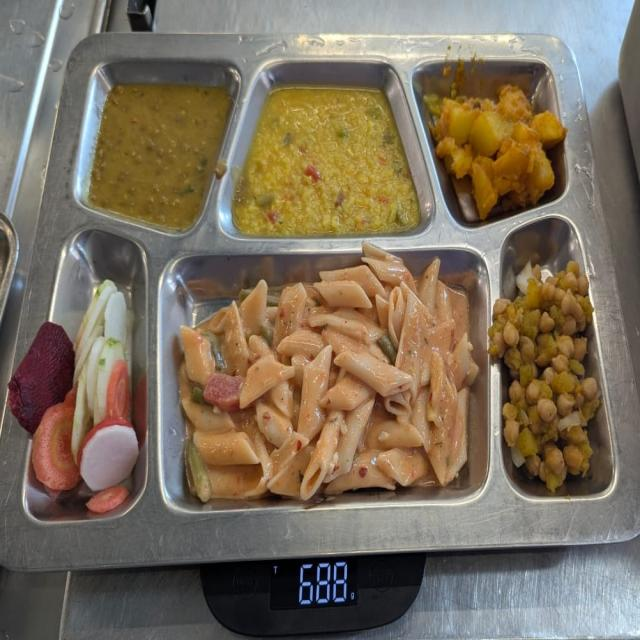Aloo Sabji: (429, 74, 566, 218)
Chaat: (491, 249, 602, 493)
Dal: (83, 75, 233, 228)
Khichdi: (229, 83, 421, 234)
Pasta: (176, 239, 478, 505)
Salad: (11, 277, 140, 515)
